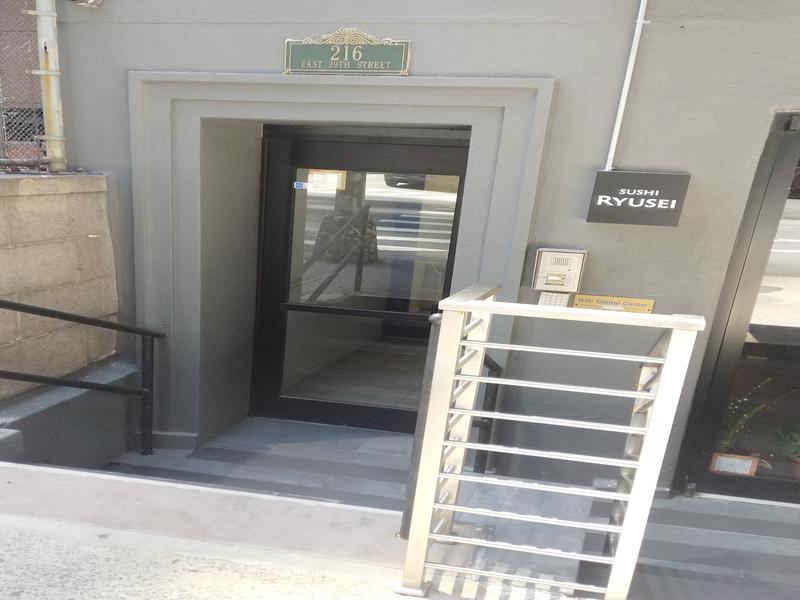door: (253, 115, 454, 435)
